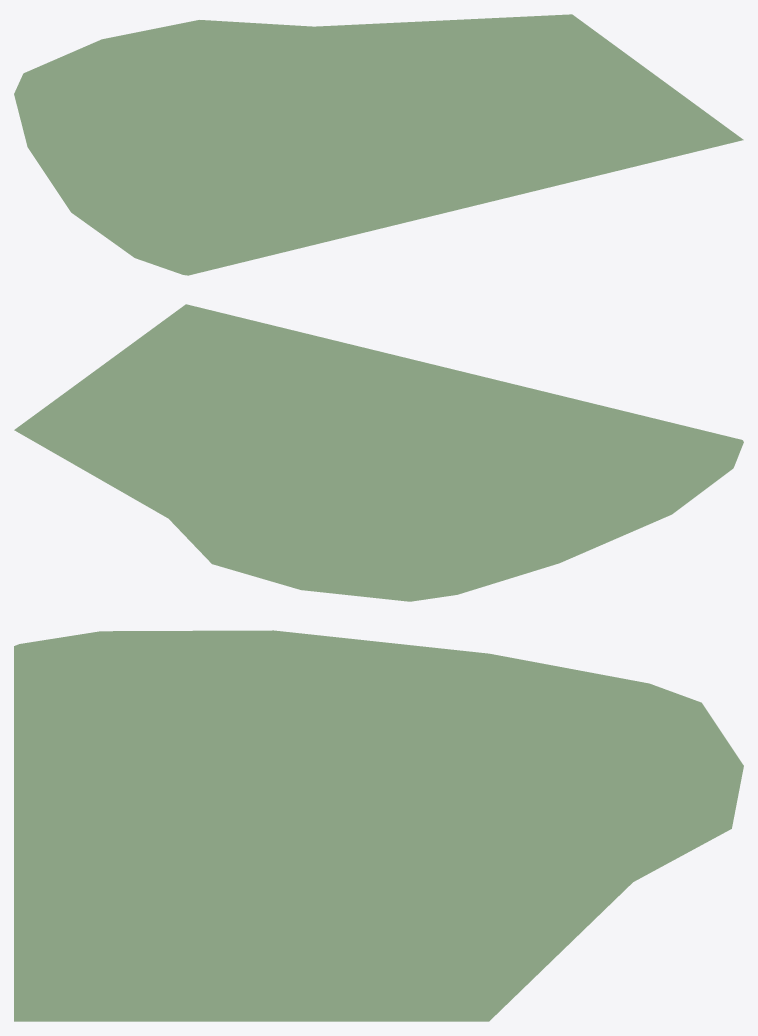
Rendered from 109_74_mid.glb.
3 renders of one model, top to bottom at view 1: azimuth 30°, elevation 25°; view 2: azimuth 150°, elevation 25°; view 3: azimuth 270°, elevation 25°, orthographic. The views are drawn at different scales.
Size of the model in its own units: 414 by 0 by 326.
